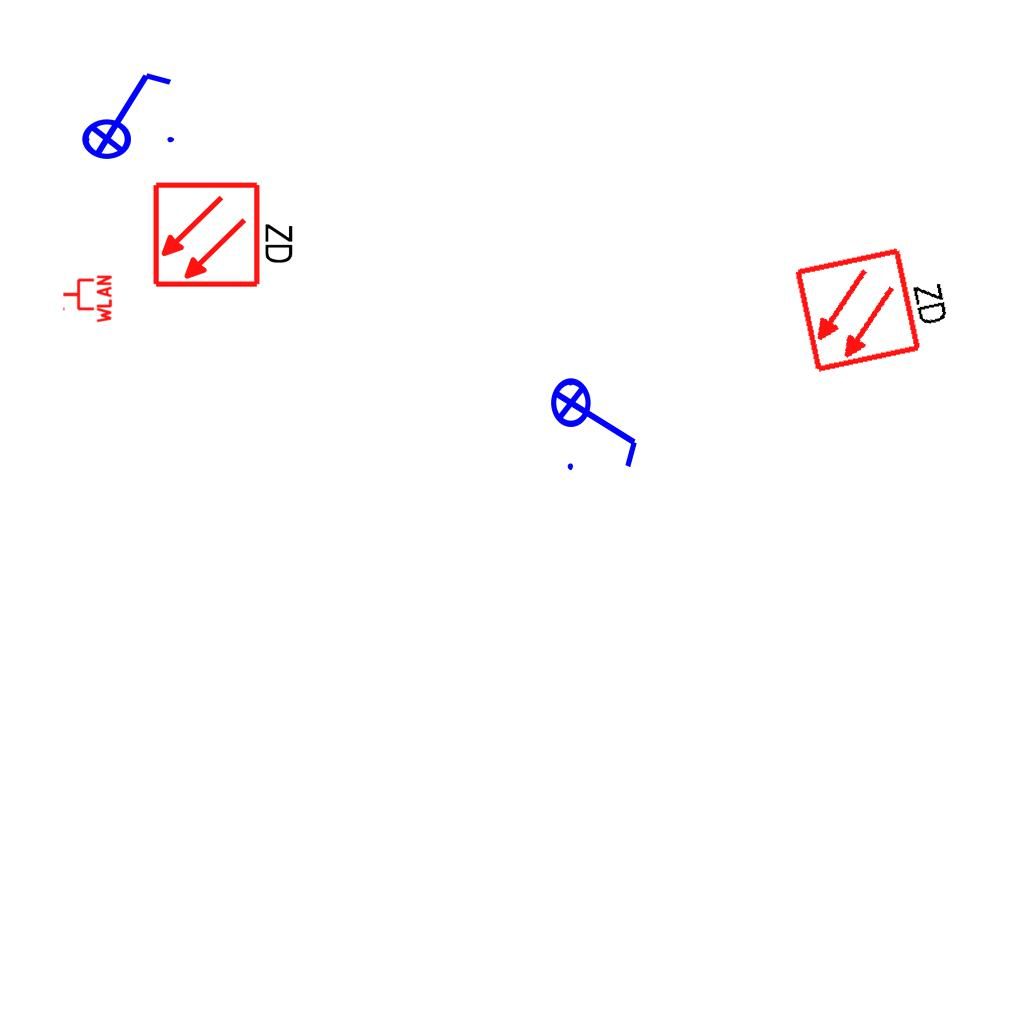Ausschalter_beleuchtet: (68, 65, 180, 161), (549, 364, 645, 476)
WLAN: (61, 273, 113, 325)
ZD_Melder_in_Zwischendecke_mit_Revisionsoeffnung_mind_40_x_40_cm: (791, 233, 961, 376), (151, 176, 300, 290)
